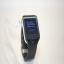watch: (19, 14, 42, 43)
